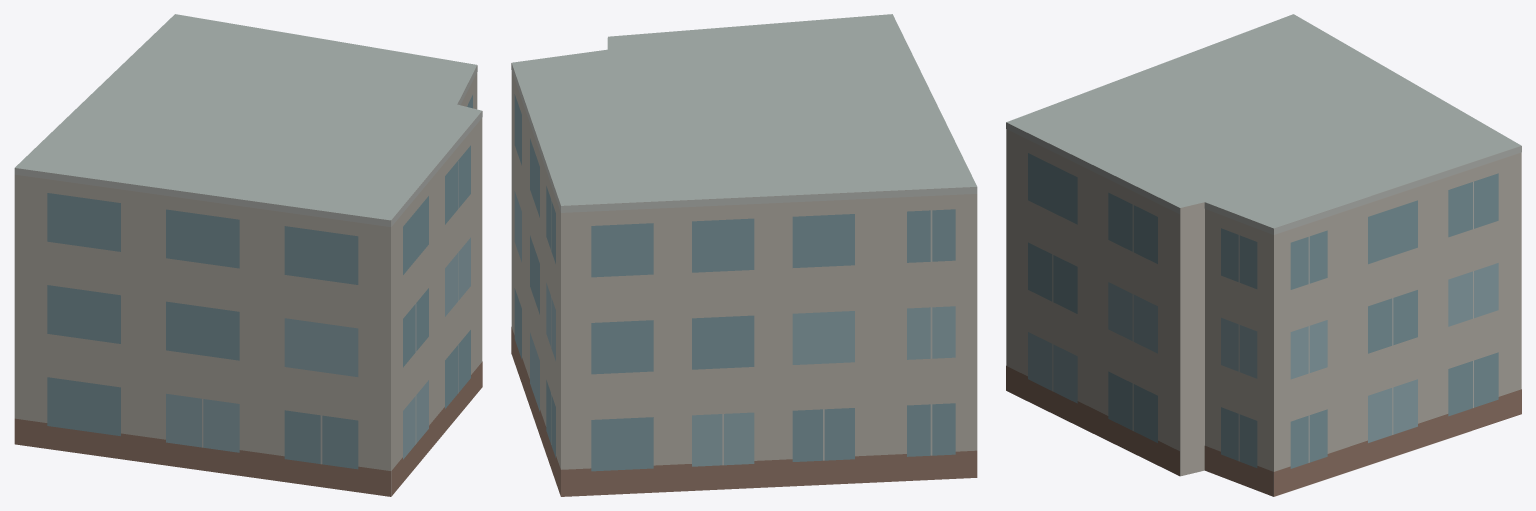
File: survey-upis-32997197.glb
3 renders of one model, left to right at view 1: azimuth 30°, elevation 25°; view 2: azimuth 150°, elevation 25°; view 3: azimuth 270°, elevation 25°, orthographic. The views are drawn at different scales.
Parts seen in each view (by area): view 1: survey-upis-32997197.tmp; view 2: survey-upis-32997197.tmp; view 3: survey-upis-32997197.tmp.
Boxes of the visible parts, x1,y1,x2,y2 form: survey-upis-32997197.tmp: [14, 14, 482, 496]; survey-upis-32997197.tmp: [511, 14, 977, 496]; survey-upis-32997197.tmp: [1006, 14, 1521, 496].
Bounding box in the file's own units: 17.15 × 10 × 17.42.
